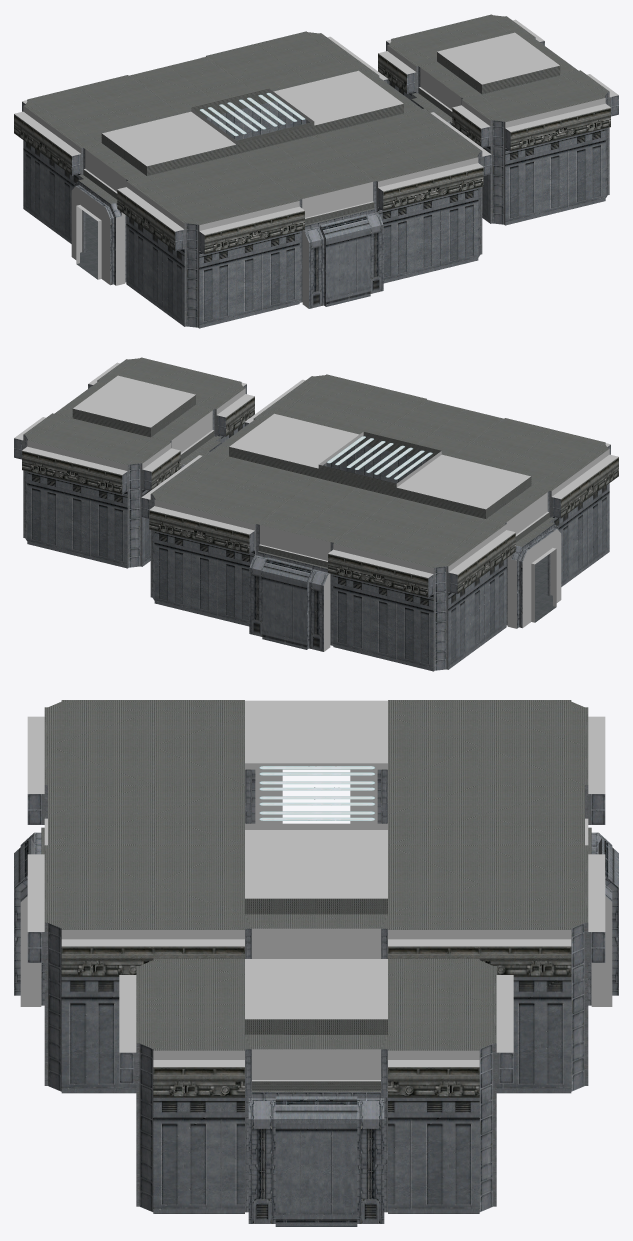
File: poi_all_impl_bunker_imperial_prison_s01_r7_galley_mesh_r7.fbx
3 renders of one model, top to bottom at view 1: azimuth 30°, elevation 25°; view 2: azimuth 150°, elevation 25°; view 3: azimuth 270°, elevation 25°, orthographic. The views are drawn at different scales.
Visible parts, largest first — view 1: mesh_node; view 2: mesh_node; view 3: mesh_node.
Part boxes in pixels (x1=…): mesh_node: x1=14, y1=14, x2=618, y2=328; mesh_node: x1=14, y1=357, x2=618, y2=671; mesh_node: x1=14, y1=700, x2=618, y2=1226.
Bounding box in the file's own units: 26.2 × 6 × 17.8.
